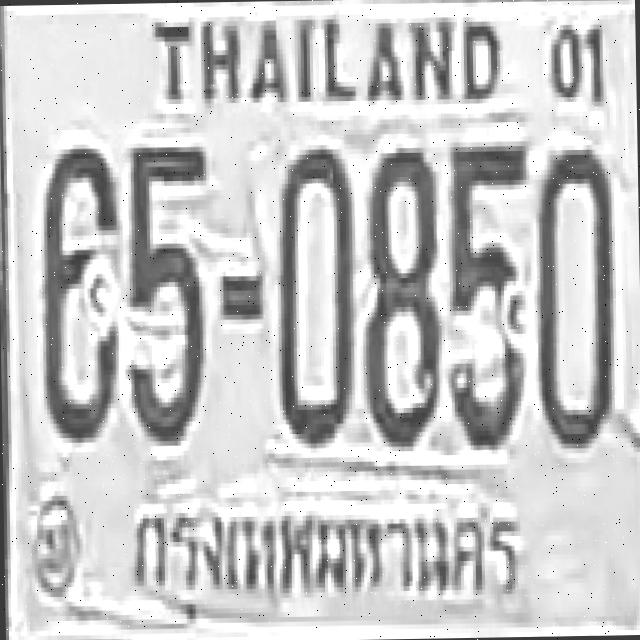0: (531, 144, 615, 448), (274, 144, 356, 438)
3: (39, 145, 123, 440)
5: (125, 141, 212, 441), (443, 141, 528, 445)
8: (359, 144, 440, 444)
Bangkok: (128, 494, 526, 611)
